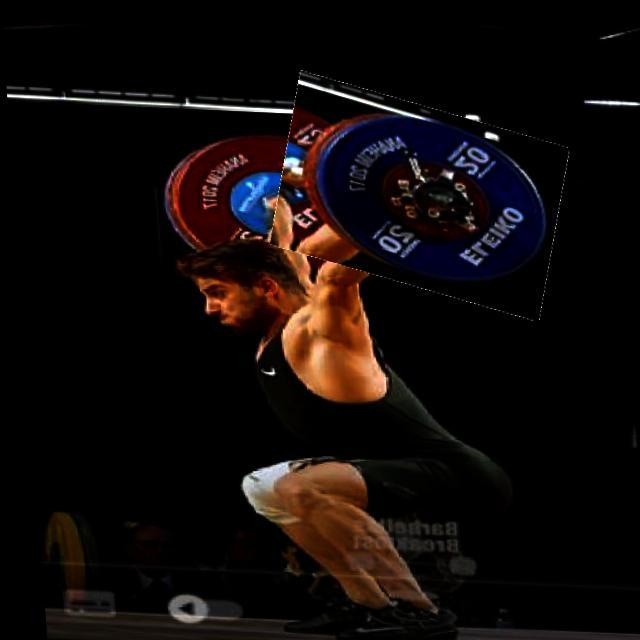barbell: (266, 82, 568, 303)
